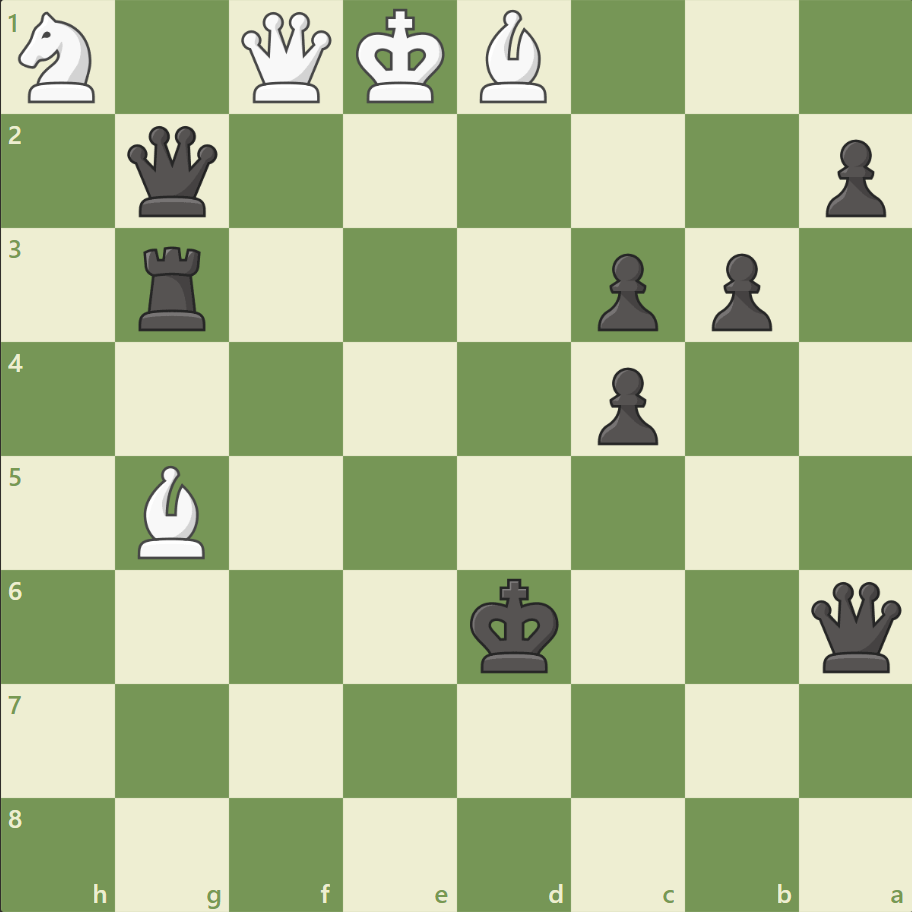B: (131, 460, 215, 563), (471, 6, 555, 109)
K: (351, 4, 451, 112)
N: (11, 7, 108, 110)
Q: (237, 9, 336, 108)
k: (465, 571, 565, 679)
p: (701, 246, 776, 337), (588, 359, 662, 450), (588, 246, 662, 337), (815, 132, 889, 223)
q: (805, 576, 904, 676), (124, 122, 223, 222)
r: (133, 239, 215, 336)
